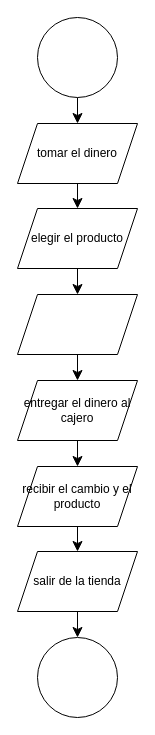
Image size: 155x735. Some labels were removed from this diagram. The shapes that lost their labels are listed below. From the top down, each one's centre as x and y in pixels, then its label:
[77,57]: start
[77,324]: dirigirse a la caja
[77,677]: end
